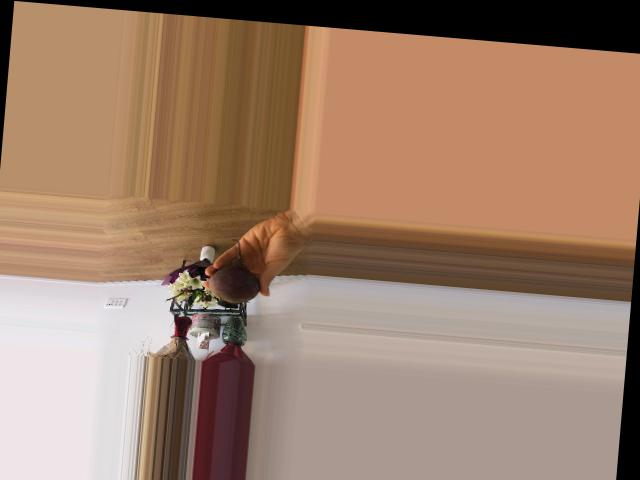beet: (206, 237, 263, 310)
